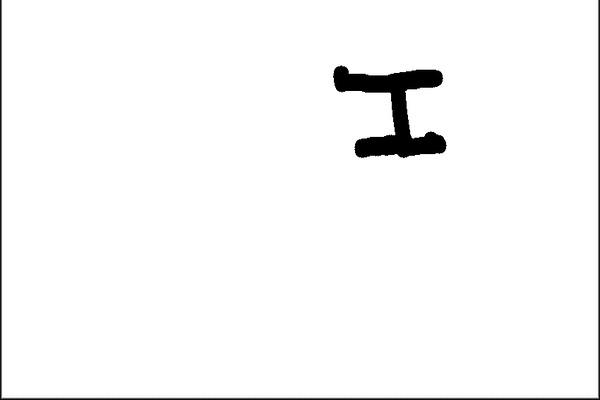i: (320, 54, 464, 168)
